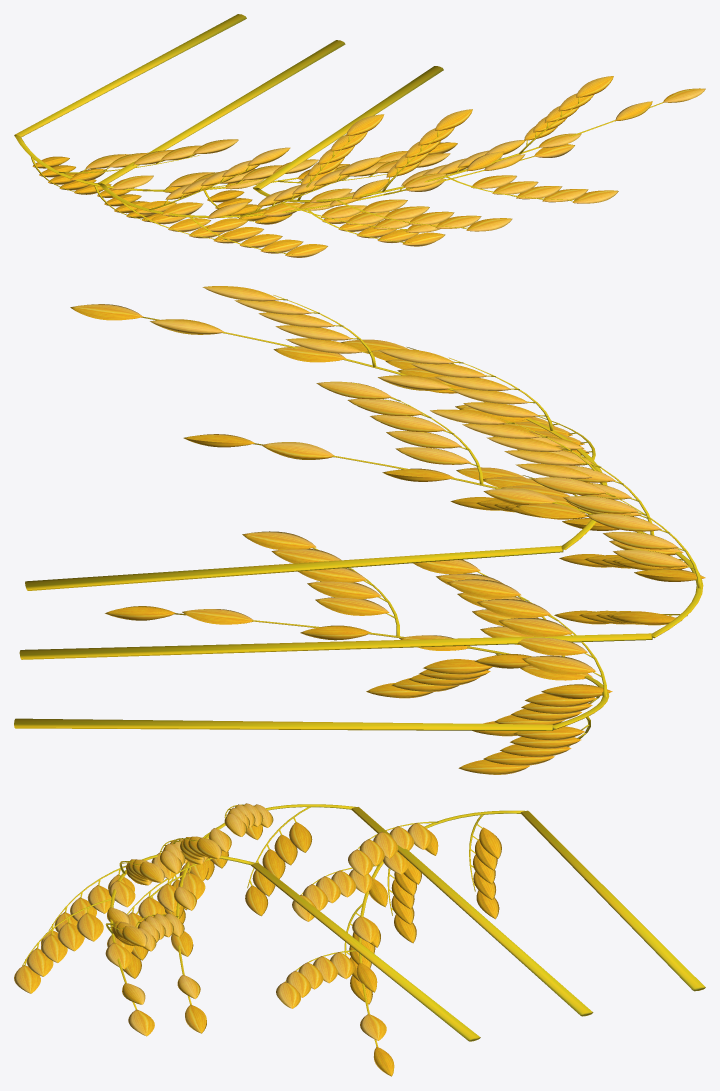
File: NP_Rice_Harvest.fbx
The picture shows the model from 3 angles, top to bottom: view 1: azimuth 30°, elevation 25°; view 2: azimuth 150°, elevation 25°; view 3: azimuth 270°, elevation 25°; orthographic projection. The views are drawn at different scales.
Visible parts, largest first — view 1: NP_Rice_Harvest; view 2: NP_Rice_Harvest; view 3: NP_Rice_Harvest.
Part boxes in pixels (x1,y1,x2,y2): NP_Rice_Harvest: (14,14,705,257); NP_Rice_Harvest: (14,286,705,774); NP_Rice_Harvest: (14,803,705,1076).
Size of the model in its own units: 62.59 by 18.49 by 65.31.
